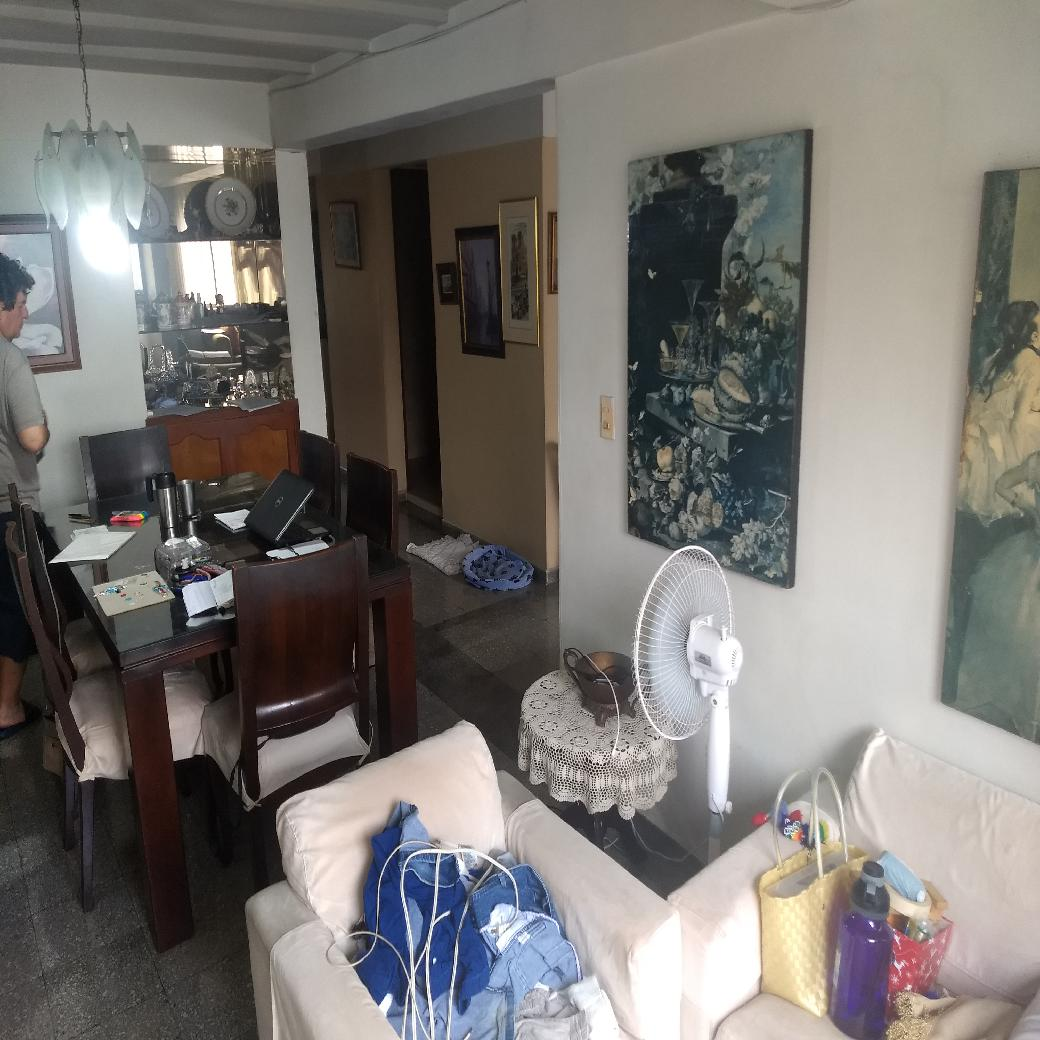laptop: (243, 467, 324, 543)
ventilador: (624, 540, 747, 821)
